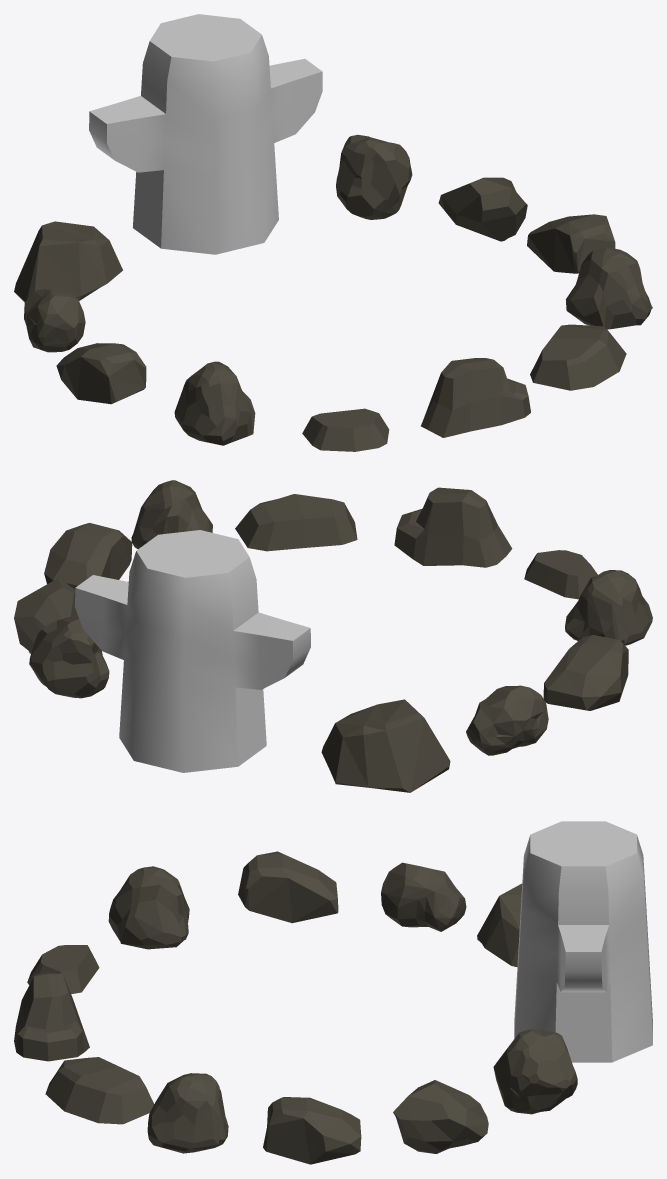
File: BazaTotem.fbx
The picture shows the model from 3 angles, top to bottom: view 1: azimuth 30°, elevation 25°; view 2: azimuth 150°, elevation 25°; view 3: azimuth 270°, elevation 25°; orthographic projection.
Visible parts, largest first — view 1: Kamienie; view 2: Kamienie; view 3: Kamienie.
Boxes of the visible parts, <box> form: Kamienie: <box>14,14,652,451</box>; Kamienie: <box>14,480,652,792</box>; Kamienie: <box>14,821,652,1164</box>.
Bounding box in the file's own units: 15798 × 5339 × 15460.
